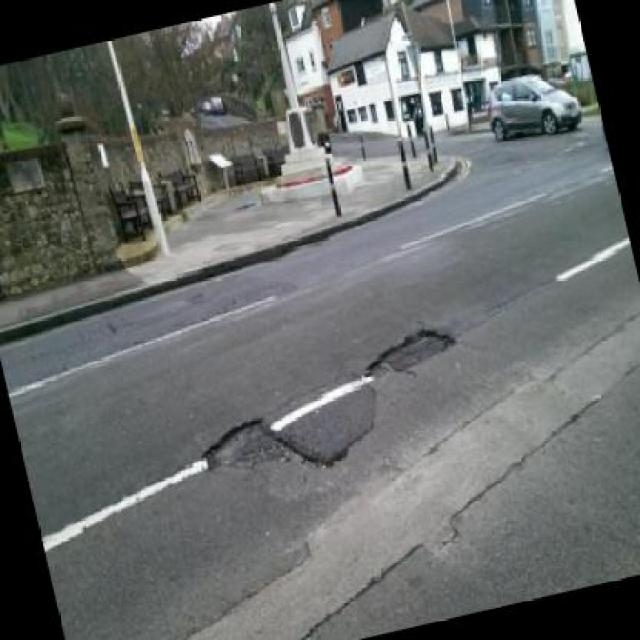pothole1: (363, 318, 463, 382), (196, 408, 286, 477)
